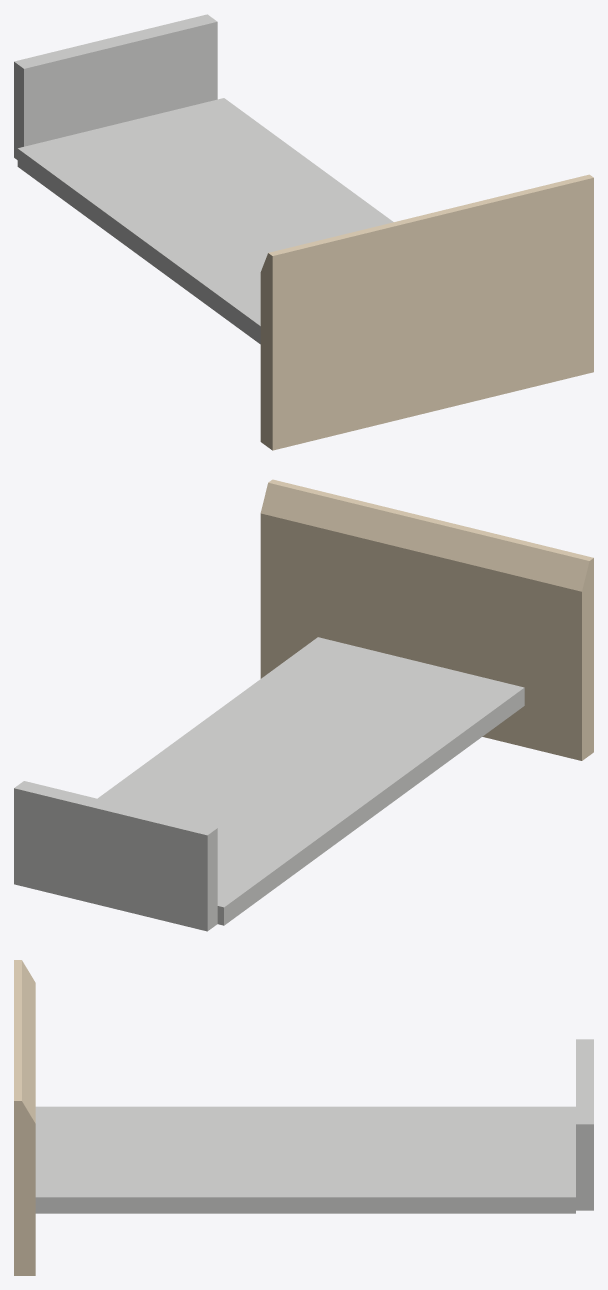
Rendered from skuff_N4_3.glb.
The picture shows the model from 3 angles, top to bottom: view 1: azimuth 30°, elevation 25°; view 2: azimuth 150°, elevation 25°; view 3: azimuth 270°, elevation 25°; orthographic projection. The views are drawn at different scales.
Size of the model in its own units: 294 by 170 by 511.
